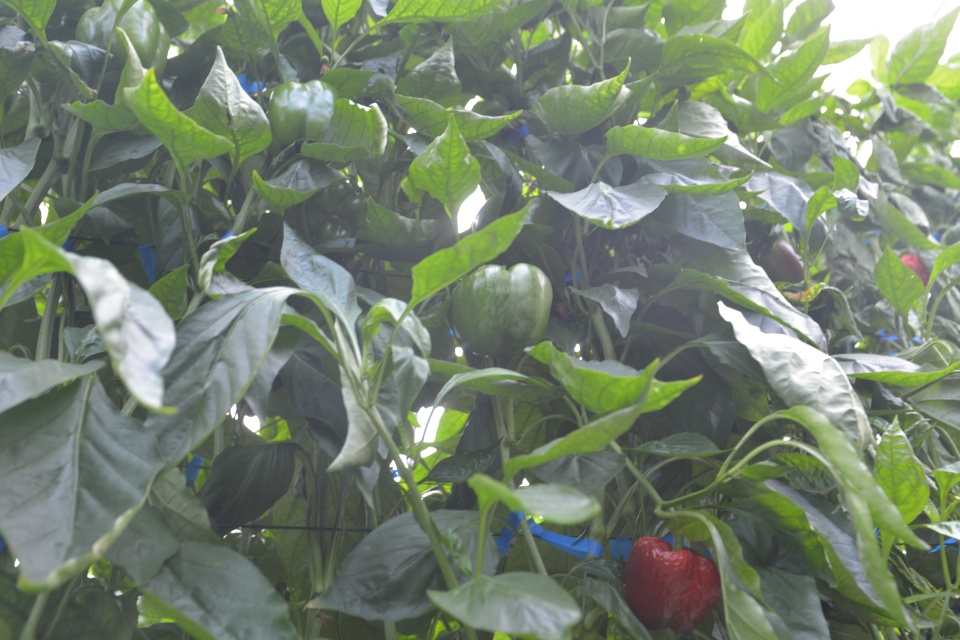fruit: (448, 261, 554, 357), (628, 536, 724, 637), (72, 1, 171, 83), (268, 79, 342, 148), (305, 181, 369, 243)
